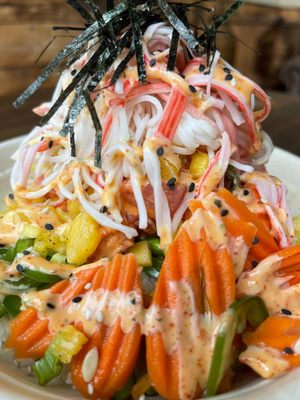pizza: (5, 308, 50, 358)
